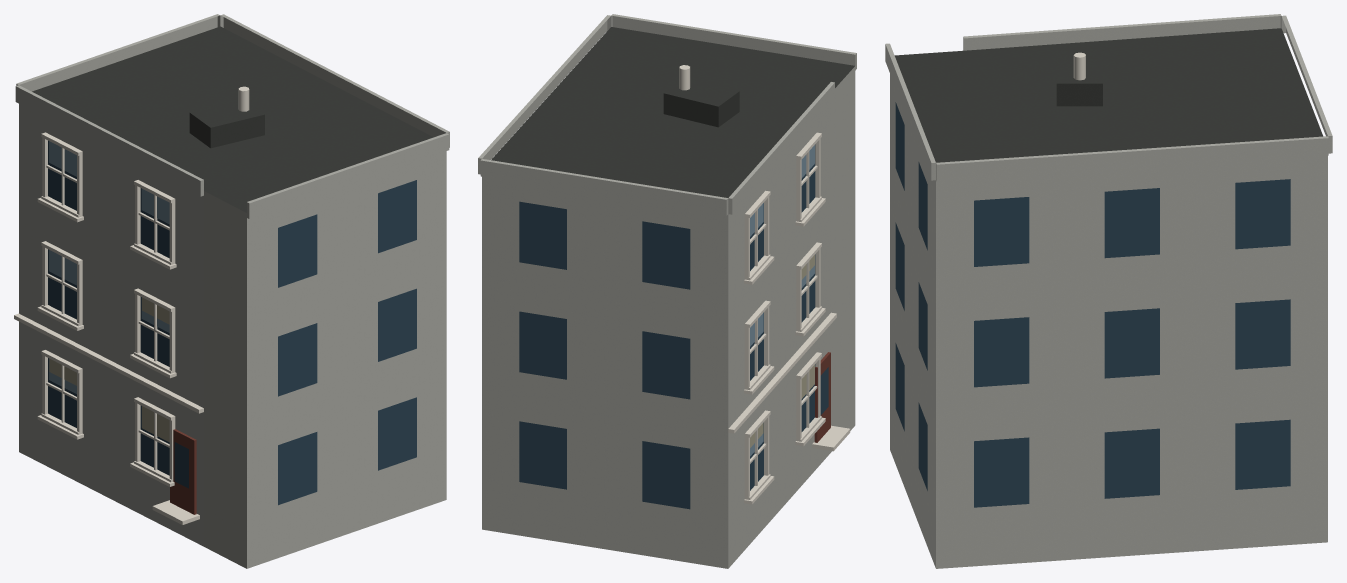
3 views of the same model, side by side, from view 1: azimuth 30°, elevation 25°; view 2: azimuth 150°, elevation 25°; view 3: azimuth 270°, elevation 25° (orthographic). The views are drawn at different scales.
Visible parts, largest first — view 1: Footprint 0 / surface 2, Footprint 0 / surface 1, Inset glazing, Facade bay volumes, Cornices and window frames, Sky reflection panels, Storefronts and doors, Interior blind variation, Inferred rooftop service enclosure / surface 5, Inferred rooftop service enclosure / surface 3; view 2: Footprint 0 / surface 2, Footprint 0 / surface 1, Inset glazing, Facade bay volumes, Cornices and window frames, Inferred rooftop service enclosure / surface 6, Inferred rooftop service enclosure / surface 3, Sky reflection panels, Storefronts and doors, Interior blind variation; view 3: Footprint 0 / surface 2, Footprint 0 / surface 1, Inset glazing, Facade bay volumes, Inferred rooftop service enclosure / surface 1, Inferred rooftop service enclosure / surface 3.
Part boxes in pixels (bbox=[...]): Footprint 0 / surface 2: bbox=[19, 104, 446, 568]; Footprint 0 / surface 1: bbox=[32, 26, 433, 212]; Inset glazing: bbox=[48, 140, 416, 505]; Facade bay volumes: bbox=[15, 14, 449, 218]; Cornices and window frames: bbox=[14, 132, 203, 524]; Sky reflection panels: bbox=[49, 141, 169, 427]; Storefronts and doors: bbox=[170, 429, 196, 514]; Interior blind variation: bbox=[49, 297, 169, 442]; Inferred rooftop service enclosure / surface 5: bbox=[210, 114, 264, 148]; Inferred rooftop service enclosure / surface 3: bbox=[190, 100, 264, 127]; Footprint 0 / surface 2: bbox=[482, 66, 855, 568]; Footprint 0 / surface 1: bbox=[491, 27, 854, 197]; Inset glazing: bbox=[519, 144, 828, 509]; Facade bay volumes: bbox=[478, 14, 856, 215]; Cornices and window frames: bbox=[728, 132, 850, 504]; Inferred rooftop service enclosure / surface 6: bbox=[663, 93, 718, 127]; Inferred rooftop service enclosure / surface 3: bbox=[664, 79, 739, 106]; Sky reflection panels: bbox=[750, 145, 814, 456]; Storefronts and doors: bbox=[814, 352, 830, 442]; Interior blind variation: bbox=[750, 255, 814, 447]; Footprint 0 / surface 2: bbox=[890, 74, 1327, 568]; Footprint 0 / surface 1: bbox=[894, 28, 1323, 162]; Inset glazing: bbox=[895, 102, 1290, 507]; Facade bay volumes: bbox=[885, 14, 1332, 182]; Inferred rooftop service enclosure / surface 1: bbox=[1056, 83, 1102, 106]; Inferred rooftop service enclosure / surface 3: bbox=[1056, 54, 1102, 83].
Size of the model in its own units: 9.29 by 12.55 by 11.58.
